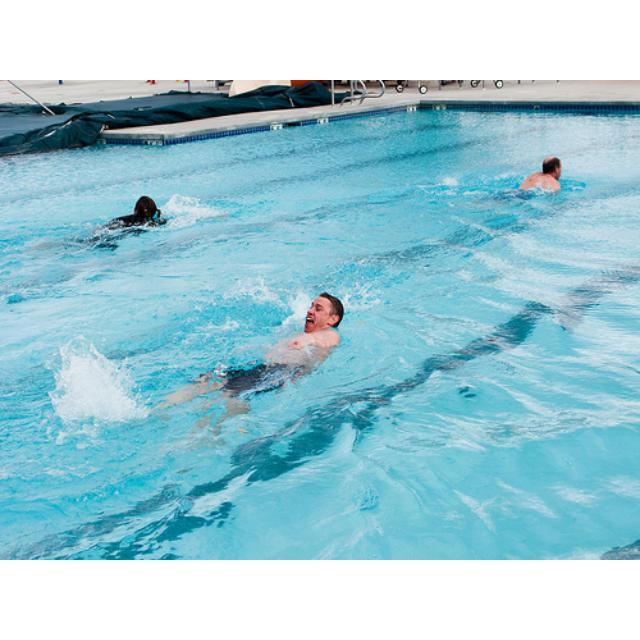human: (210, 291, 346, 417), (517, 156, 566, 195), (117, 193, 161, 235)
